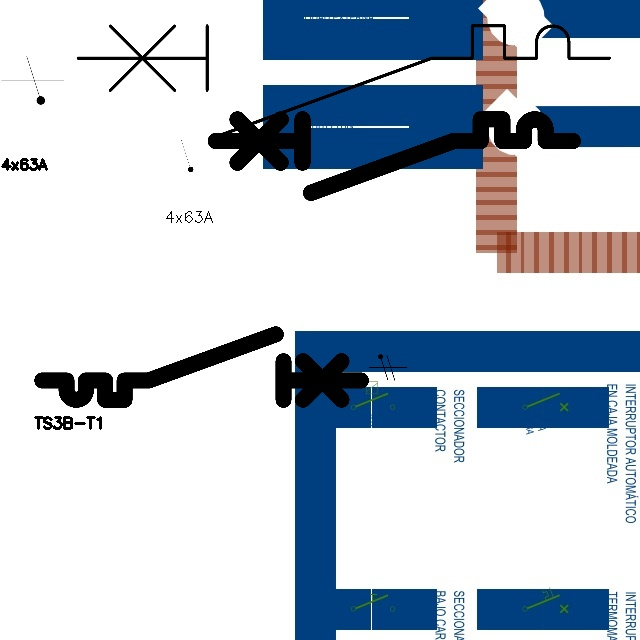interruptor_termomagnetico: (64, 12, 623, 149), (206, 110, 582, 202), (34, 326, 369, 408)
